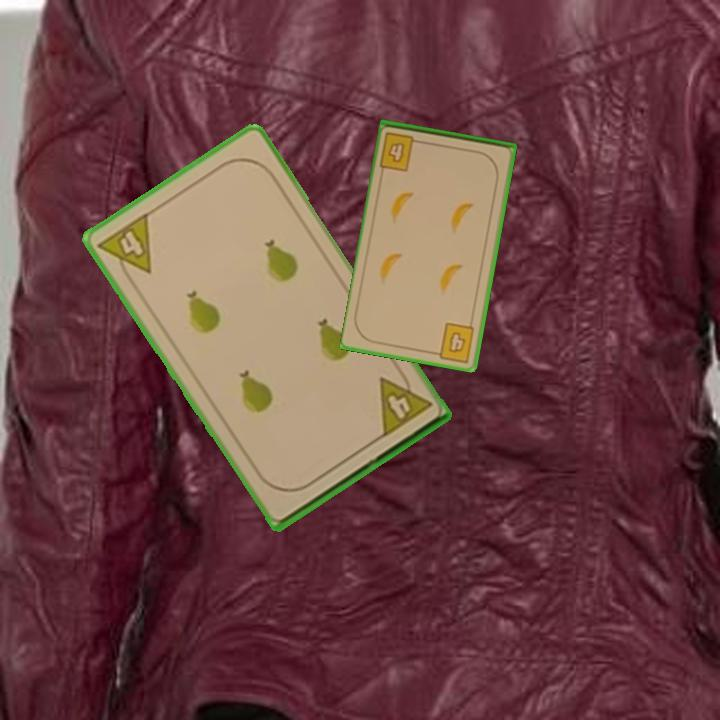4b: (377, 128, 426, 174), (430, 319, 477, 364)
4p: (94, 208, 154, 288), (374, 364, 434, 441)
